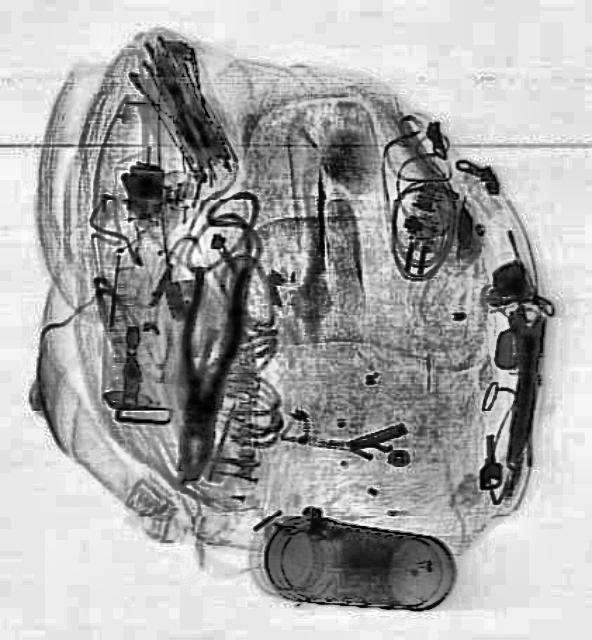Pliers: (156, 258, 251, 488)
